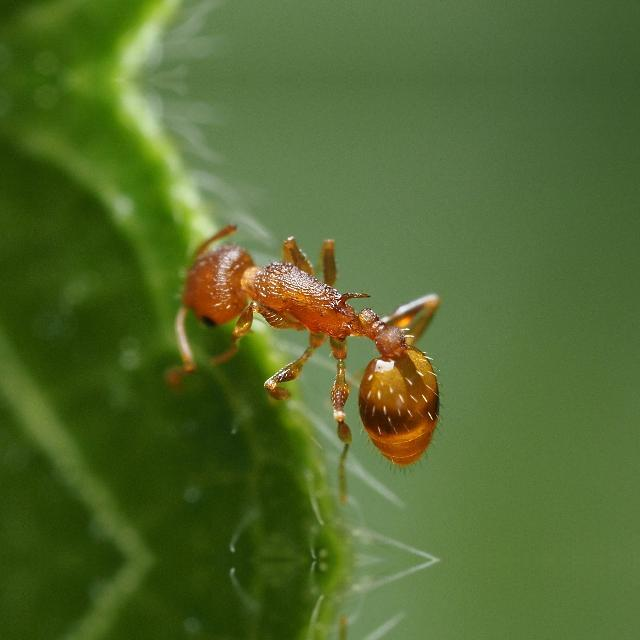Temnothorax: (148, 204, 474, 463)
